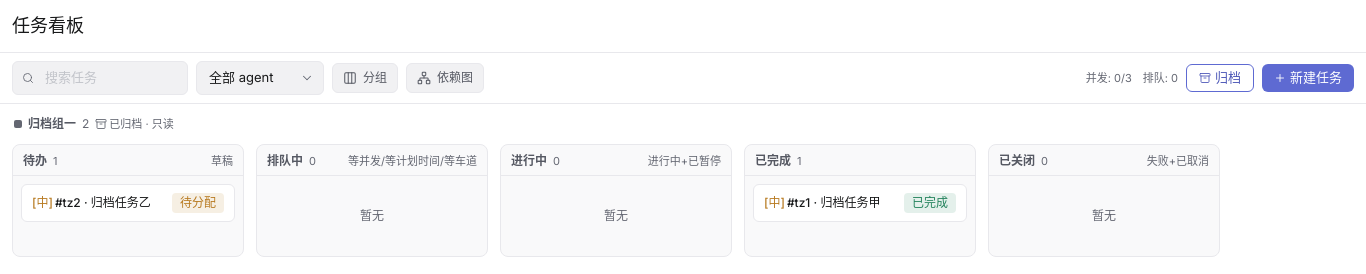
Scenario: TaskBoardView 主区（看板重构 Task 11） › 归档视图下搜索框输入过滤归档行（工具栏过滤对归档行同样生效）
Expected: the heading "归档组一 2" is shown, [14,116,89,132]
Type "甲" into the field labelled "搜索任务" at (100, 78), box [12,61,188,94]
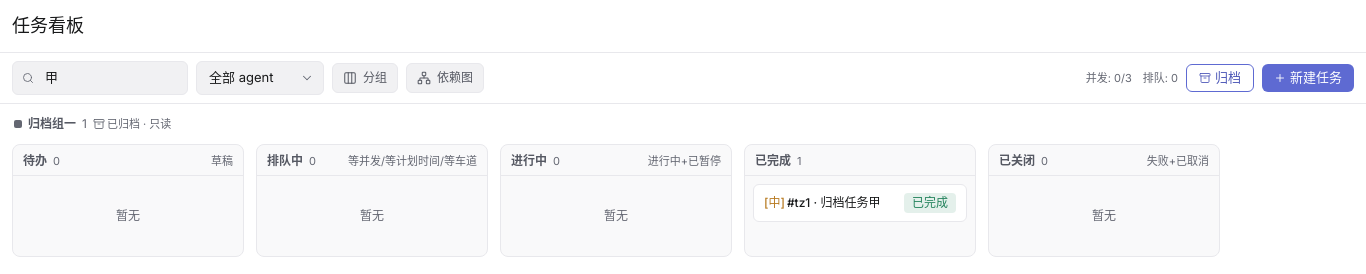
Expected: the text "[中]#tz1 · 归档任务甲" is shown, [764,193,898,212]
Expected: the button "归档任务乙" is gone
